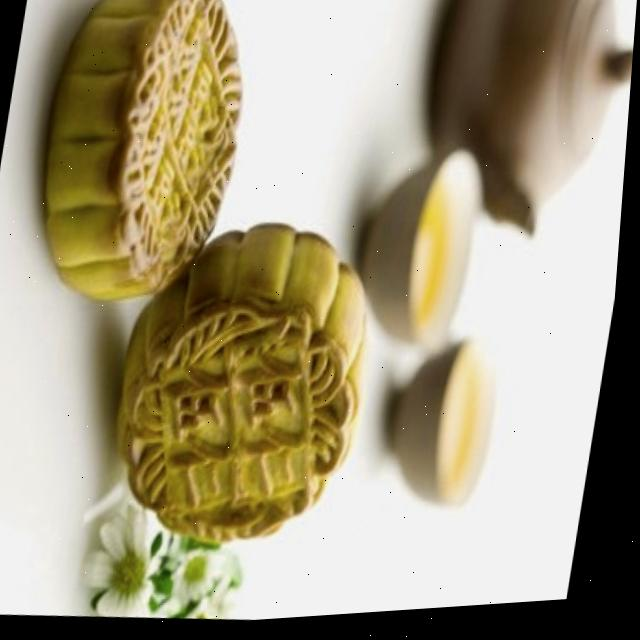蛋糕甜品: (0, 0, 463, 619)
